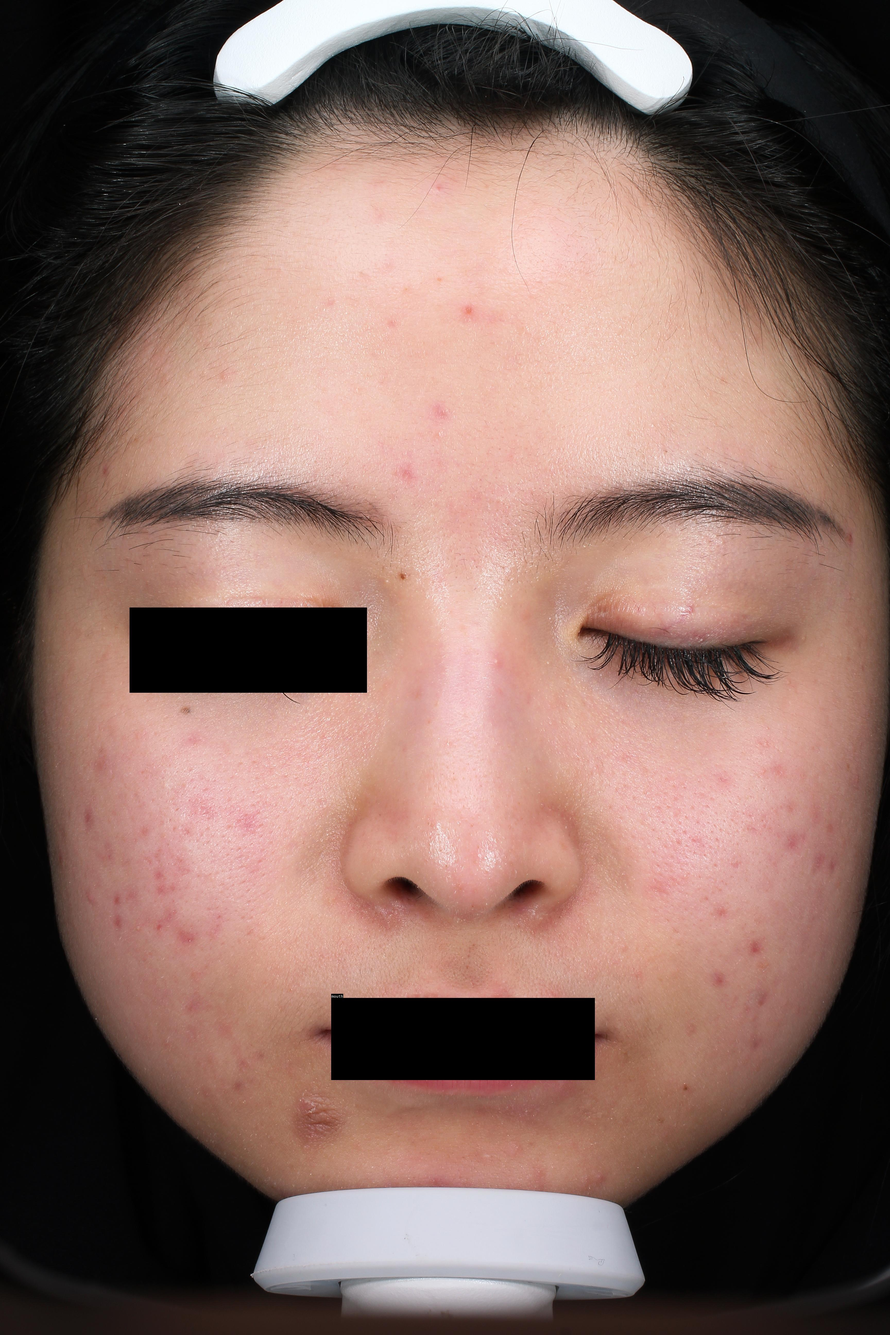atrophic_scar: (809, 850, 826, 876), (648, 885, 667, 893), (144, 856, 153, 867), (183, 827, 191, 836), (732, 860, 740, 869), (156, 923, 162, 931), (258, 859, 263, 865), (200, 806, 207, 810), (206, 811, 210, 817), (748, 814, 754, 817)
closed_comedo: (801, 635, 807, 640), (135, 924, 140, 930), (682, 873, 687, 879), (786, 680, 791, 685), (445, 741, 450, 746), (355, 387, 360, 392), (546, 661, 550, 666), (502, 980, 507, 984), (515, 1145, 520, 1149), (273, 1182, 277, 1187), (524, 1110, 529, 1114), (622, 944, 627, 948), (437, 432, 441, 436), (505, 1105, 509, 1109), (318, 953, 322, 957), (588, 739, 592, 743), (386, 579, 389, 584), (537, 1170, 541, 1173), (290, 988, 293, 991), (289, 946, 292, 949), (766, 727, 769, 730)
hypertrophic_scar: (481, 1153, 492, 1159)
melasma: (718, 376, 728, 384), (435, 700, 439, 706)
nevus: (180, 707, 192, 714), (399, 573, 408, 581), (682, 1085, 689, 1092)
other: (293, 1092, 348, 1151)
papule: (464, 306, 475, 315), (492, 658, 502, 667), (85, 892, 94, 901), (440, 408, 447, 414), (552, 996, 557, 1002), (432, 1178, 437, 1183), (597, 1174, 603, 1178)
